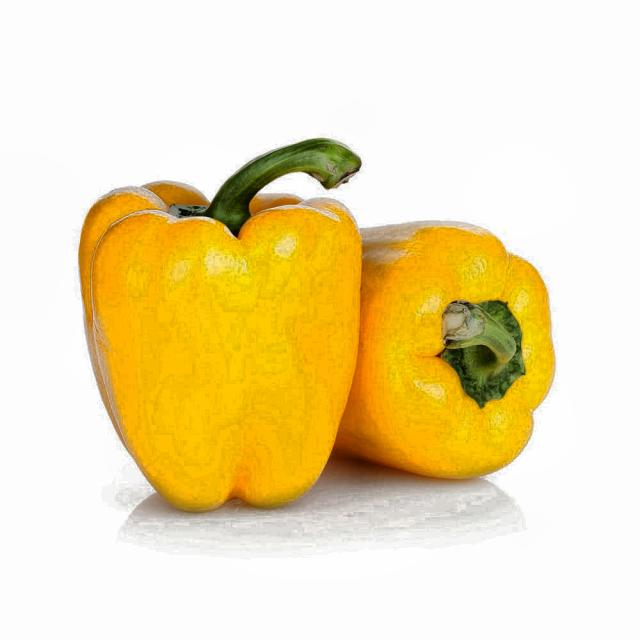capsicum: (31, 109, 550, 549)
